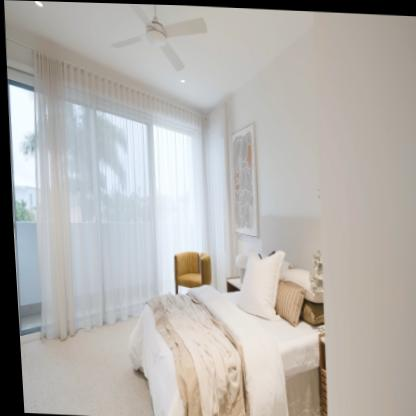Bed: (130, 249, 325, 416)
Chair: (168, 250, 211, 301)
